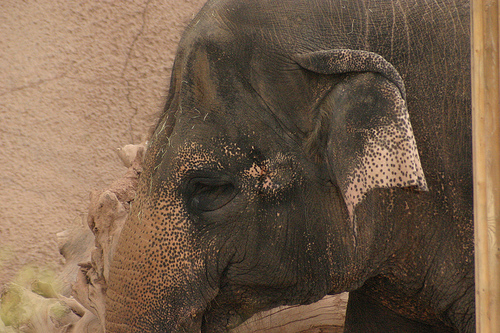elephant: (91, 1, 479, 333)
